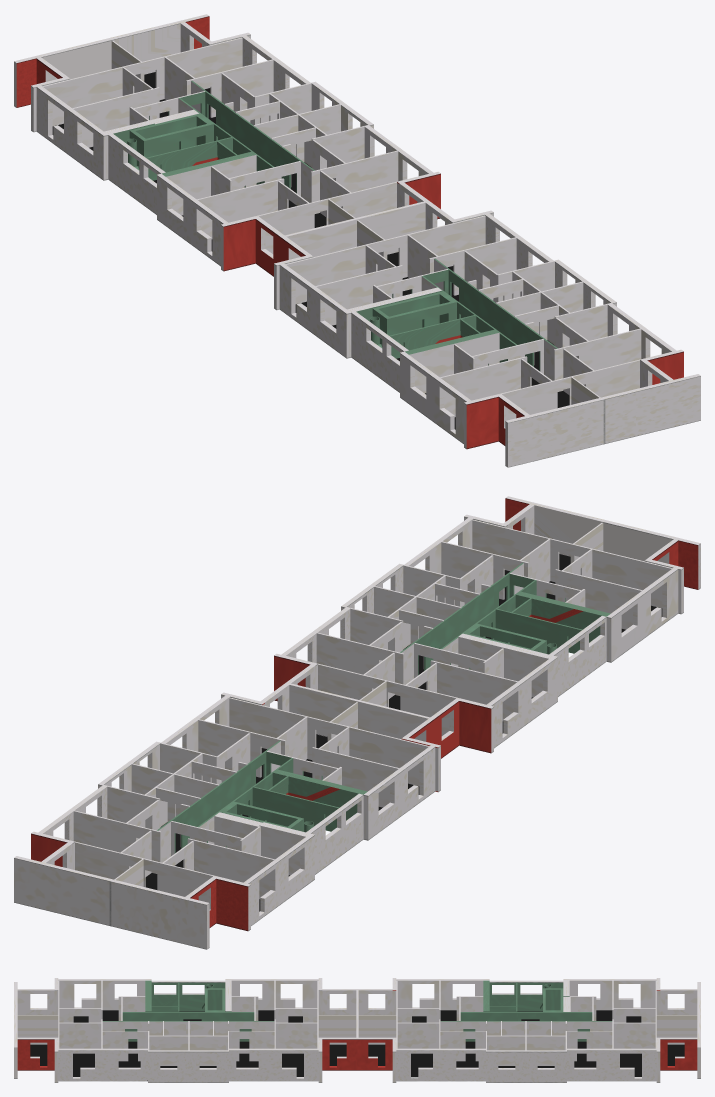
File: Floor_2.fbx
The picture shows the model from 3 angles, top to bottom: view 1: azimuth 30°, elevation 25°; view 2: azimuth 150°, elevation 25°; view 3: azimuth 270°, elevation 25°; orthographic projection. The views are drawn at different scales.
Parts seen in each view (by area): view 1: Walls_inside_3_rooms_L.128, Walls_inside_3_rooms_R.129, Wall_side_north.024, Wall_side_south.024, Walls_inside_3_rooms_L.136, Wall_separator.012, Walls_inside_3_rooms_R.122, Wall_kitchen_north_1.018, Wall_kitchen_north_2.030, Wall_side_north.023, Wall_kitchen_north_1.019, Wall_kitchen_north_2.029 (+48 smaller); view 2: Walls_inside_3_rooms_L.136, Walls_inside_3_rooms_R.122, Wall_side_north.023, Wall_side_south.023, Walls_inside_3_rooms_L.128, Wall_separator.012, Walls_inside_3_rooms_R.129, Wall_kitchen_north_1.019, Wall_kitchen_north_2.029, Wall_side_north.024, Wall_kitchen_north_1.018, Wall_kitchen_north_2.030 (+51 smaller); view 3: Floor.024, Floor.023, Wall_rooms_south_1.026, Wall_rooms_south_2.020, Wall_rooms_south_1.027, Wall_rooms_south_2.021, Wall_kitchen_south.023, Wall_kitchen_south.024, Wall_kitchen_north_1.018, Wall_kitchen_north_1.019, Wall_kitchen_north_2.029, Wall_kitchen_north_2.030 (+53 smaller).
Boxes of the visible parts, box(x1,y1,x2,y2) form: Walls_inside_3_rooms_L.128: box(42, 37, 242, 126); Walls_inside_3_rooms_R.129: box(285, 215, 485, 303); Wall_side_north.024: box(505, 397, 604, 467); Wall_side_south.024: box(602, 374, 700, 443); Walls_inside_3_rooms_L.136: box(501, 359, 639, 419); Wall_separator.012: box(285, 201, 425, 258); Walls_inside_3_rooms_R.122: box(239, 176, 419, 253); Wall_kitchen_north_1.018: box(36, 86, 108, 180); Wall_kitchen_north_2.030: box(279, 263, 351, 358); Wall_side_north.023: box(14, 37, 112, 107); Wall_kitchen_north_1.019: box(400, 351, 471, 443); Wall_kitchen_north_2.029: box(157, 173, 228, 266); Walls_inside_3_rooms_L.136: box(472, 519, 672, 608); Walls_inside_3_rooms_R.122: box(229, 697, 429, 785); Wall_side_north.023: box(110, 879, 209, 949); Wall_side_south.023: box(14, 856, 112, 925); Walls_inside_3_rooms_L.128: box(75, 841, 213, 901); Wall_separator.012: box(289, 683, 429, 740); Walls_inside_3_rooms_R.129: box(295, 658, 475, 735); Wall_kitchen_north_1.019: box(606, 568, 678, 662); Wall_kitchen_north_2.029: box(363, 745, 435, 840); Wall_side_north.024: box(602, 519, 700, 589); Wall_kitchen_north_1.018: box(243, 833, 314, 925); Wall_kitchen_north_2.030: box(486, 655, 557, 748); Floor.024: box(30, 1010, 346, 1080); Floor.023: box(368, 1010, 684, 1076); Wall_rooms_south_1.026: box(567, 1048, 656, 1081); Wall_rooms_south_2.020: box(396, 1048, 485, 1081); Wall_rooms_south_1.027: box(58, 1048, 147, 1081); Wall_rooms_south_2.021: box(229, 1048, 318, 1081); Wall_kitchen_south.023: box(486, 1050, 566, 1082); Wall_kitchen_south.024: box(148, 1050, 228, 1082); Wall_kitchen_north_1.018: box(563, 979, 656, 1010); Wall_kitchen_north_1.019: box(58, 979, 151, 1010); Wall_kitchen_north_2.029: box(396, 979, 489, 1010); Wall_kitchen_north_2.030: box(225, 979, 318, 1010).
Size of the model in its own units: 1420 by 289 by 5588.
6 materials, 5 textured.
